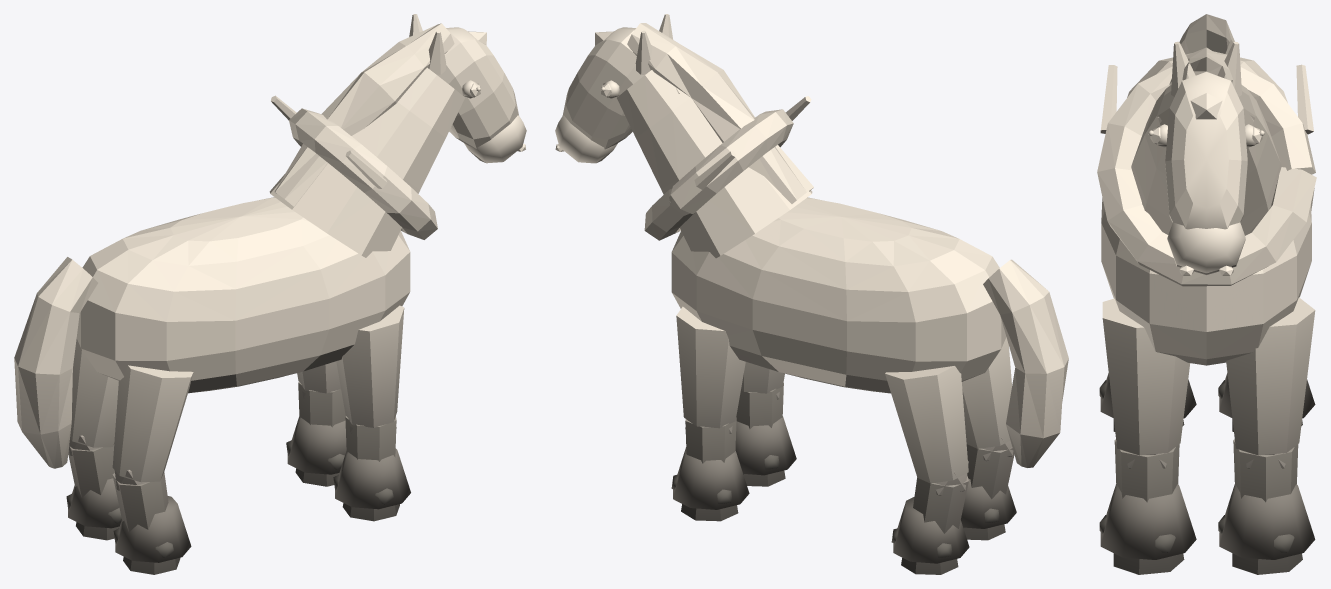
File: SM_VK_Animal_Horse.fbx
3 renders of one model, left to right at view 1: azimuth 30°, elevation 25°; view 2: azimuth 150°, elevation 25°; view 3: azimuth 270°, elevation 25°, orthographic. The views are drawn at different scales.
Visible parts, largest first — view 1: SM_VK_Animal_Horse.001; view 2: SM_VK_Animal_Horse.001; view 3: SM_VK_Animal_Horse.001.
Boxes of the visible parts, left/top/right/bottom form: SM_VK_Animal_Horse.001: left=14, top=14, right=526, bottom=574; SM_VK_Animal_Horse.001: left=555, top=14, right=1068, bottom=574; SM_VK_Animal_Horse.001: left=1097, top=14, right=1316, bottom=574.
Size of the model in its own units: 2.95 by 2.52 by 0.8886.
